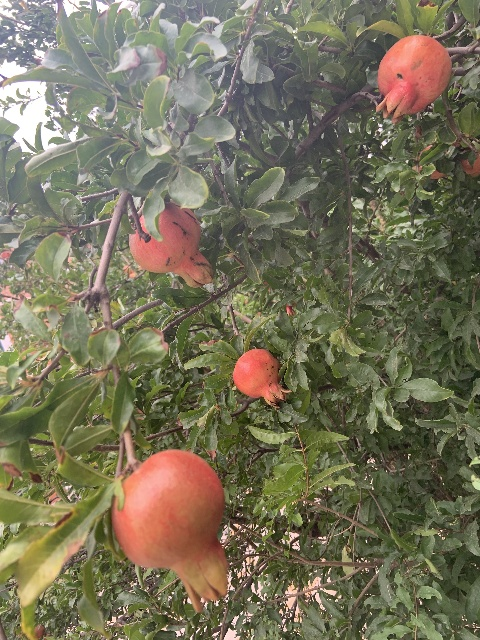ripe: (110, 449, 229, 613), (129, 201, 212, 287), (376, 34, 451, 124), (233, 348, 289, 408), (286, 301, 296, 316)
